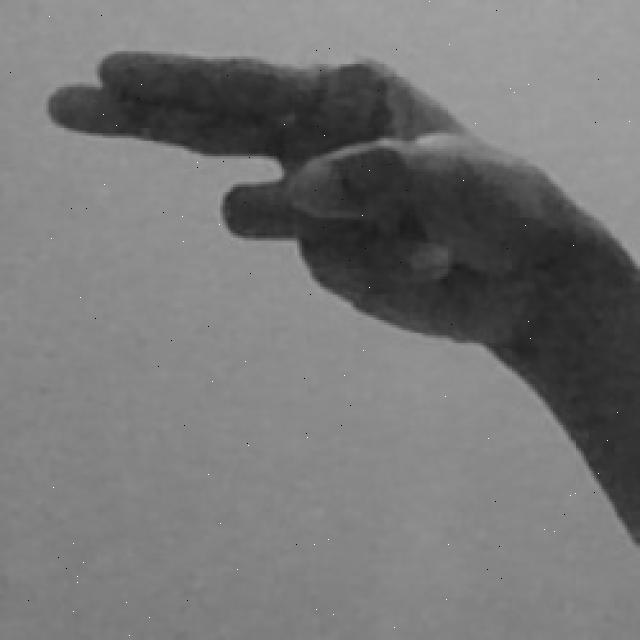H: (38, 40, 640, 551)
